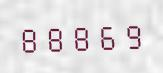eight: (18, 22, 42, 54), (43, 21, 67, 53), (68, 20, 92, 52)
nine: (118, 18, 142, 50)
six: (93, 19, 117, 51)
